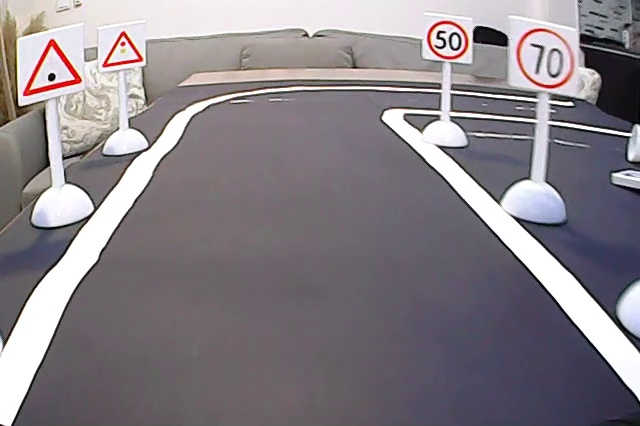green light: (18, 38, 89, 98)
red light: (98, 28, 149, 68)
speed limit 50: (426, 14, 476, 64)
speed limit 70: (513, 22, 578, 90)
